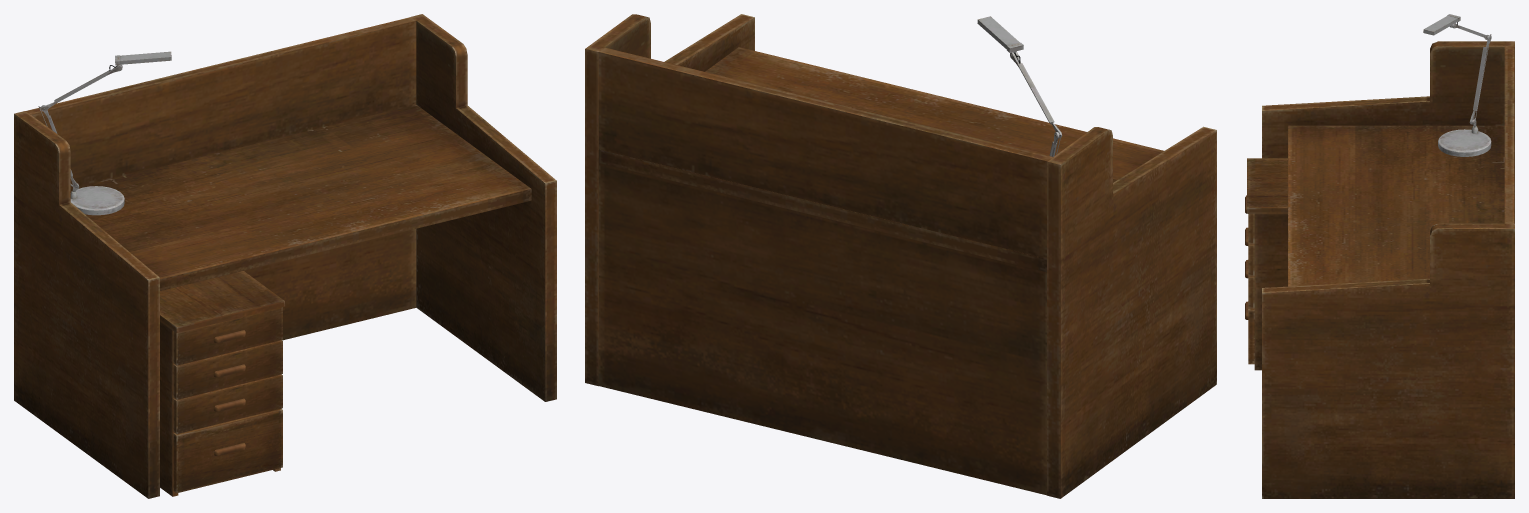
File: 020_OfficeDesk.fbx
3 views of the same model, side by side, from view 1: azimuth 30°, elevation 25°; view 2: azimuth 150°, elevation 25°; view 3: azimuth 270°, elevation 25° (orthographic). The views are drawn at different scales.
Parts seen in each view (by area): view 1: LOD_1_Group_0_Sub_1__sm30_020_OfficeDesk02A_A_Mat, LOD_1_Group_5_Sub_1__sm30_020_OfficeDesk02A_A_Mat, LOD_1_Group_4_Sub_1__sm30_020_OfficeDesk02A_A_Mat, LOD_1_Group_3_Sub_1__sm30_020_OfficeDesk02A_A_Mat, LOD_1_Group_2_Sub_1__sm30_020_OfficeDesk02A_A_Mat, LOD_1_Group_1_Sub_1__sm30_020_OfficeDesk02A_A_Mat; view 2: LOD_1_Group_0_Sub_1__sm30_020_OfficeDesk02A_A_Mat, LOD_1_Group_1_Sub_1__sm30_020_OfficeDesk02A_A_Mat; view 3: LOD_1_Group_0_Sub_1__sm30_020_OfficeDesk02A_A_Mat, LOD_1_Group_1_Sub_1__sm30_020_OfficeDesk02A_A_Mat, LOD_1_Group_5_Sub_1__sm30_020_OfficeDesk02A_A_Mat.
Boxes of the visible parts, x1,y1,x2,y2 form: LOD_1_Group_0_Sub_1__sm30_020_OfficeDesk02A_A_Mat: [14, 14, 556, 498]; LOD_1_Group_5_Sub_1__sm30_020_OfficeDesk02A_A_Mat: [173, 408, 282, 492]; LOD_1_Group_4_Sub_1__sm30_020_OfficeDesk02A_A_Mat: [173, 374, 282, 433]; LOD_1_Group_3_Sub_1__sm30_020_OfficeDesk02A_A_Mat: [173, 340, 282, 399]; LOD_1_Group_2_Sub_1__sm30_020_OfficeDesk02A_A_Mat: [173, 307, 282, 365]; LOD_1_Group_1_Sub_1__sm30_020_OfficeDesk02A_A_Mat: [38, 51, 171, 215]; LOD_1_Group_0_Sub_1__sm30_020_OfficeDesk02A_A_Mat: [585, 14, 1216, 498]; LOD_1_Group_1_Sub_1__sm30_020_OfficeDesk02A_A_Mat: [977, 16, 1062, 156]; LOD_1_Group_0_Sub_1__sm30_020_OfficeDesk02A_A_Mat: [1247, 41, 1514, 498]; LOD_1_Group_1_Sub_1__sm30_020_OfficeDesk02A_A_Mat: [1423, 14, 1491, 156]; LOD_1_Group_5_Sub_1__sm30_020_OfficeDesk02A_A_Mat: [1245, 301, 1254, 364].
Bounding box in the file's own units: 1.79 × 1.47 × 1.09.
